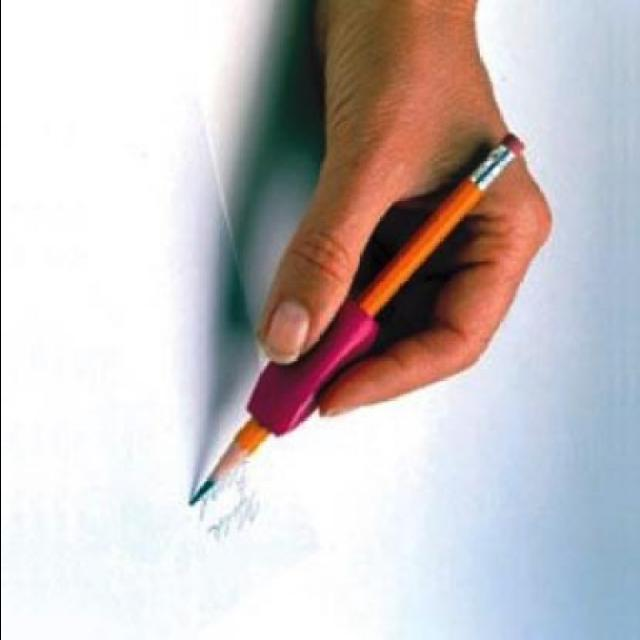pencil: (181, 424, 265, 513)
